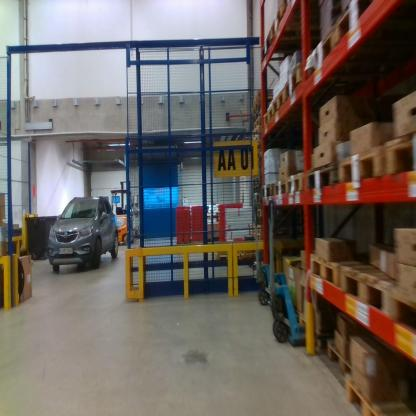forklift: (110, 168, 137, 243)
pallet: (332, 137, 389, 199), (333, 256, 388, 320), (304, 246, 362, 294), (326, 4, 384, 50), (261, 31, 329, 68), (345, 378, 405, 414), (327, 336, 365, 386), (304, 34, 338, 87), (265, 1, 313, 38), (383, 128, 414, 180), (306, 161, 342, 198), (388, 283, 413, 335), (260, 103, 300, 134), (281, 63, 311, 102), (286, 167, 304, 198), (212, 245, 235, 264), (272, 174, 286, 203), (269, 90, 283, 114), (253, 89, 273, 104), (261, 179, 274, 198), (252, 98, 270, 111), (238, 244, 263, 253), (238, 253, 259, 262), (251, 116, 264, 130), (249, 233, 267, 243), (252, 207, 266, 219), (248, 177, 262, 189), (251, 110, 263, 124), (251, 127, 264, 139), (249, 224, 265, 233), (251, 194, 264, 204), (252, 133, 262, 146), (250, 204, 264, 212), (251, 186, 264, 194)
pallet_truck: (267, 204, 328, 348), (255, 208, 290, 321)
